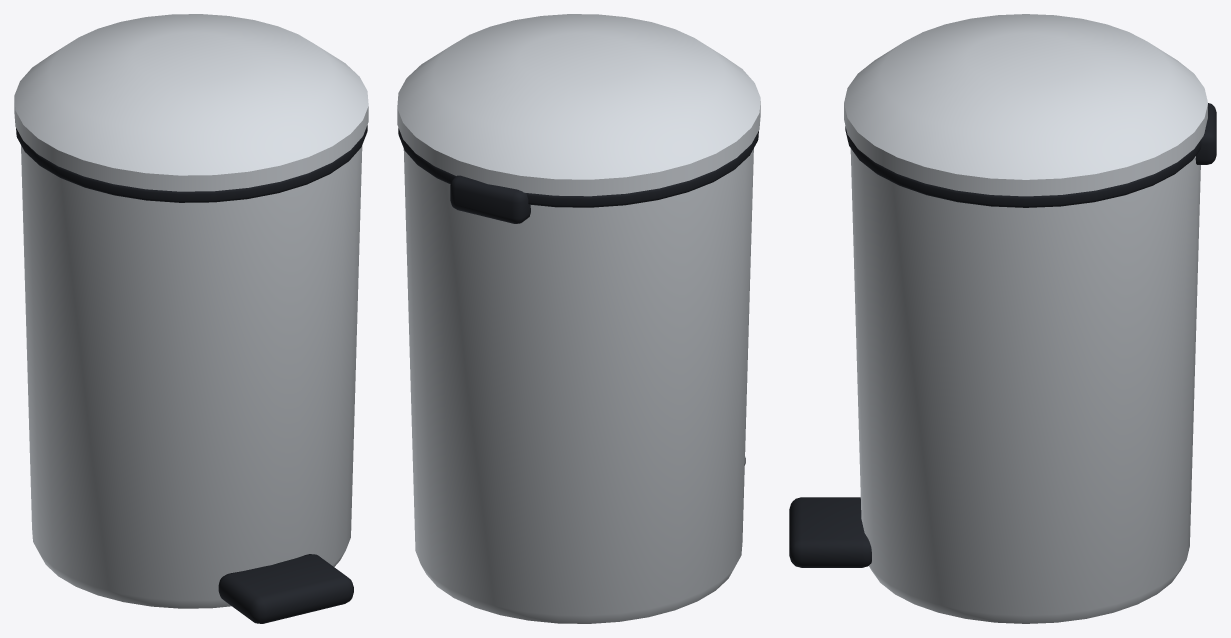
File: lixeira_pedal_inox.glb
3 renders of one model, left to right at view 1: azimuth 30°, elevation 25°; view 2: azimuth 150°, elevation 25°; view 3: azimuth 270°, elevation 25°, orthographic. The views are drawn at different scales.
Parts seen in each view (by area): view 1: lixeira_pedal_inox, tampa; view 2: lixeira_pedal_inox, tampa; view 3: lixeira_pedal_inox, tampa.
Boxes of the visible parts, x1,y1,x2,y2 form: lixeira_pedal_inox: [16, 125, 367, 623]; tampa: [14, 14, 368, 191]; lixeira_pedal_inox: [398, 128, 758, 623]; tampa: [397, 14, 760, 196]; lixeira_pedal_inox: [789, 103, 1216, 623]; tampa: [844, 14, 1207, 196].
Bounding box in the file's own units: 0.3 × 0.454 × 0.352.
1 material, 1 textured.
